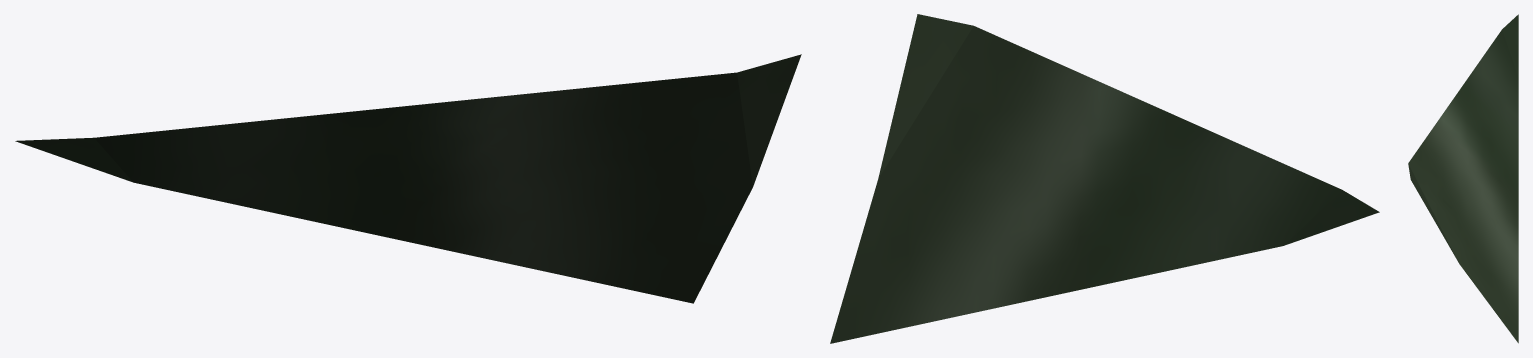
3 views of the same model, side by side, from view 1: azimuth 30°, elevation 25°; view 2: azimuth 150°, elevation 25°; view 3: azimuth 270°, elevation 25° (orthographic). The views are drawn at different scales.
Size of the model in its own units: 0.3311 by 0.153 by 0.0934.
Materials: 1 (1 with a texture image).
